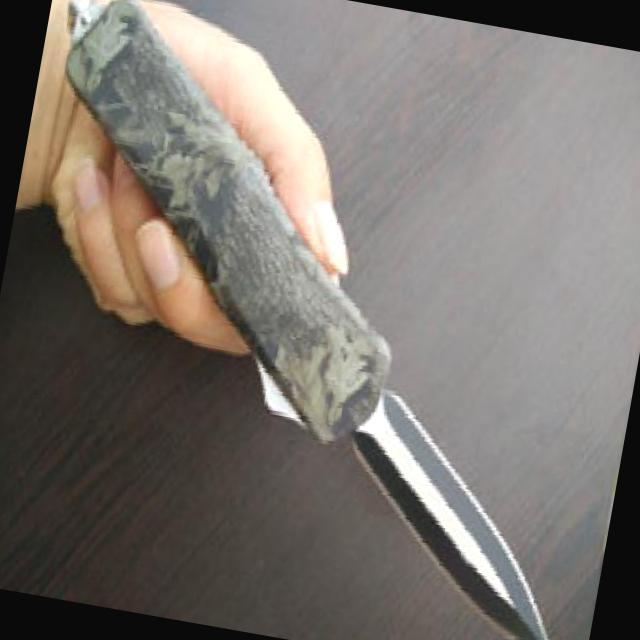knife: (68, 81, 640, 640)
